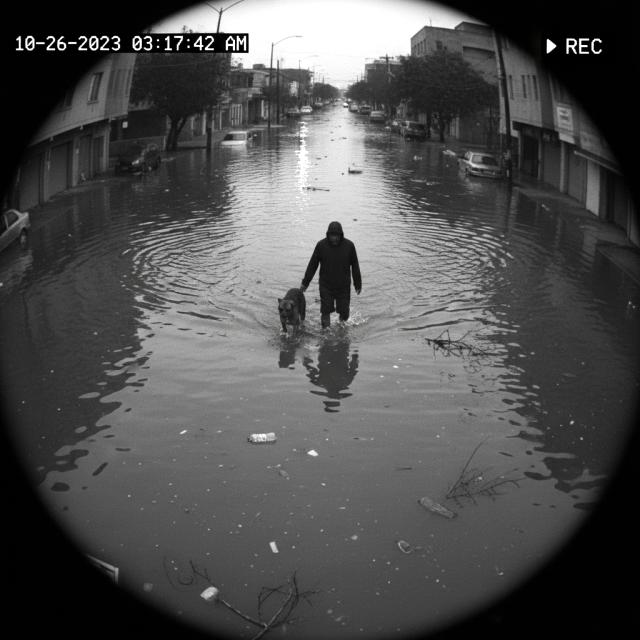civilian: (305, 217, 368, 336)
dog: (272, 283, 312, 338)
